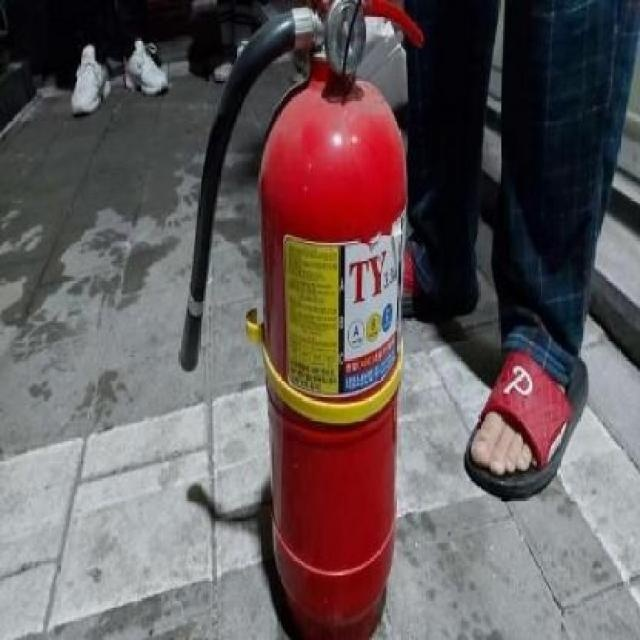fire extinguisher: (177, 0, 423, 640)
